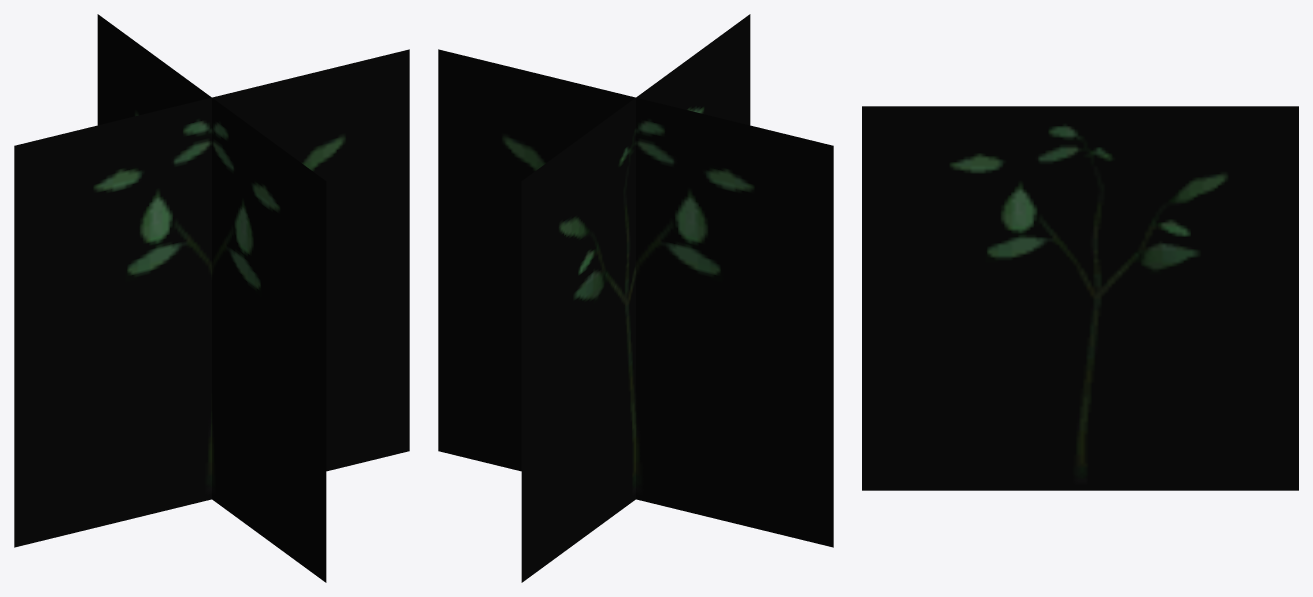
Rendered from leaf_sapling_l3.fbx.
3 views of the same model, side by side, from view 1: azimuth 30°, elevation 25°; view 2: azimuth 150°, elevation 25°; view 3: azimuth 270°, elevation 25° (orthographic). The views are drawn at different scales.
Parts seen in each view (by area): view 1: mesh_node; view 2: mesh_node; view 3: mesh_node.
Boxes of the visible parts, box(x1,y1,x2,y2) form: mesh_node: box(14, 14, 409, 582); mesh_node: box(438, 14, 833, 582); mesh_node: box(862, 106, 1298, 490).
Bounding box in the file's own units: 2.6 × 2.53 × 2.6.
Materials: 1 (1 with a texture image).
